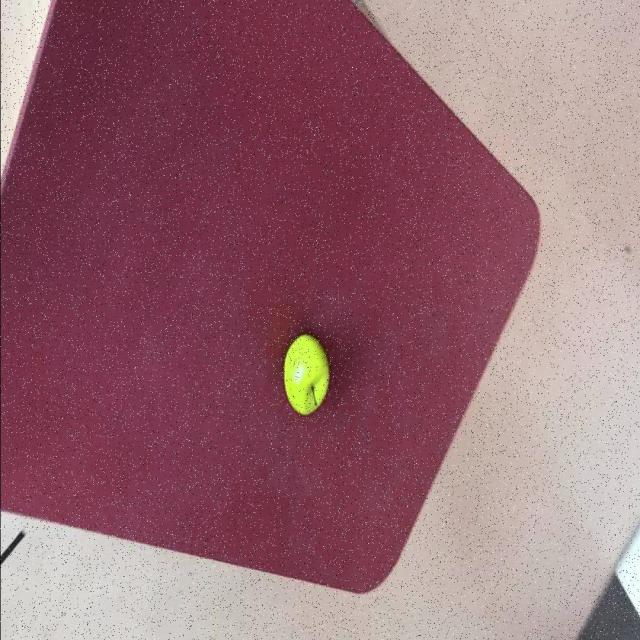Apple: (283, 332, 330, 416)
